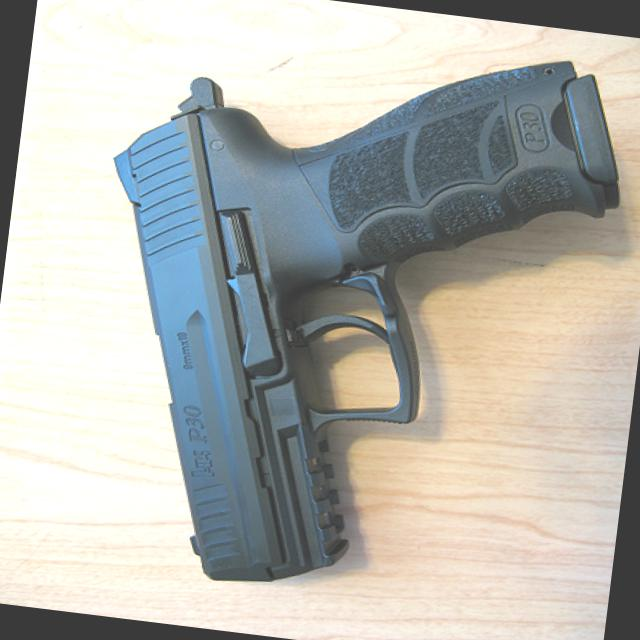handgun: (61, 1, 630, 628)
